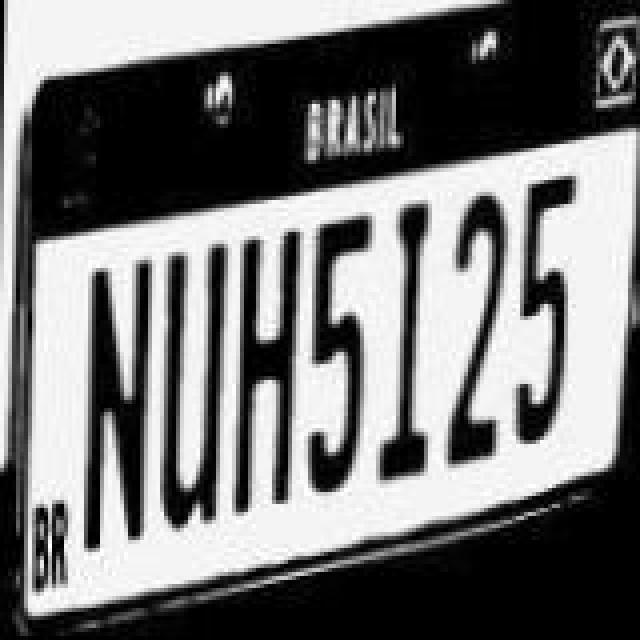2: (440, 170, 516, 454)
5: (306, 194, 378, 478), (516, 160, 584, 428)
H: (232, 212, 308, 500)
I: (376, 182, 444, 470)
N: (82, 244, 158, 552)
U: (154, 226, 230, 526)
